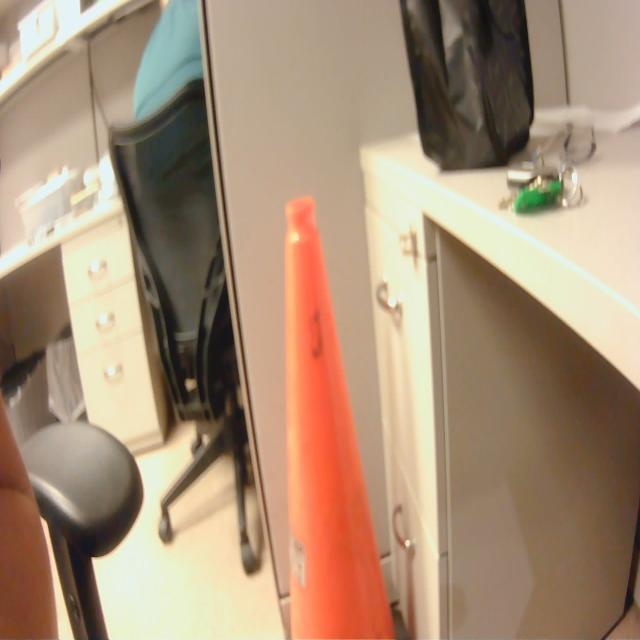traffic cone: (277, 189, 404, 640)
